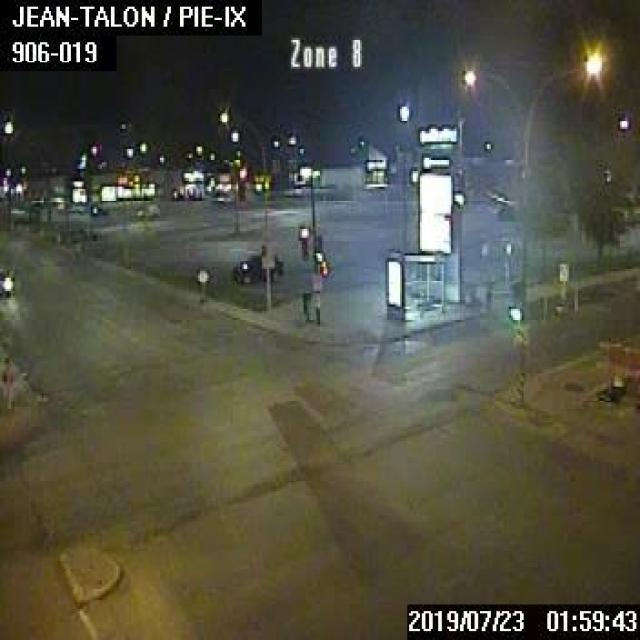construction: (594, 338, 638, 401)
vehicle: (230, 253, 283, 282), (0, 262, 13, 298)
